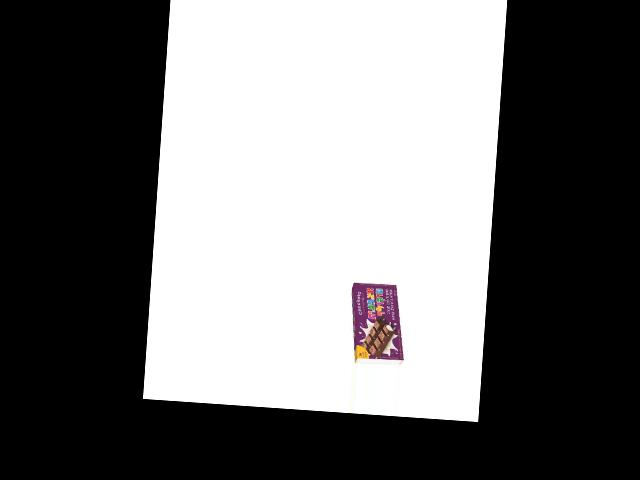chocolate: (346, 276, 405, 367)
